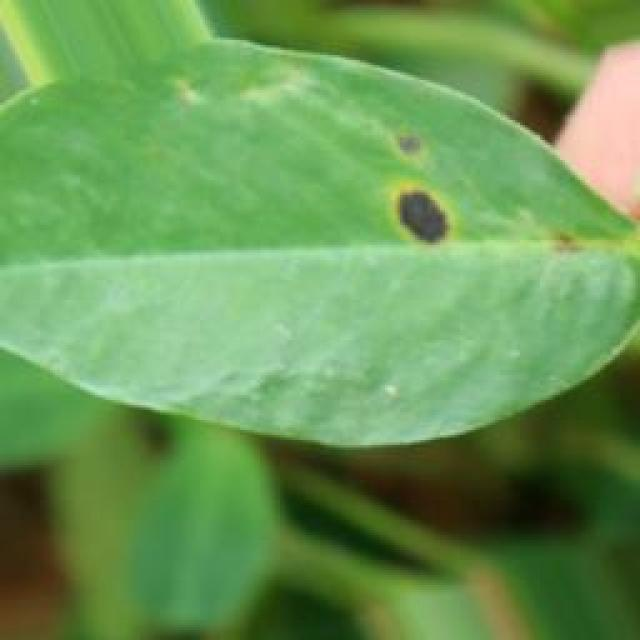Sigatoka: (344, 109, 470, 268), (515, 211, 588, 286)
